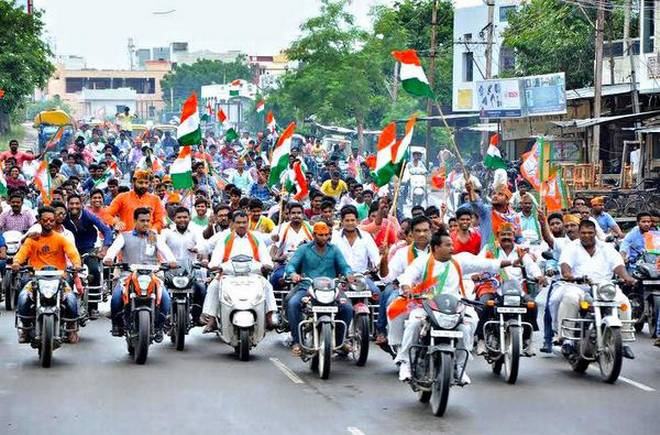h_bike: (391, 225, 474, 421), (564, 212, 636, 391), (12, 208, 79, 373), (212, 205, 273, 370), (287, 221, 348, 380), (105, 207, 163, 366)
h_nohelmet: (429, 225, 459, 267), (409, 215, 439, 252), (576, 214, 602, 256), (308, 219, 339, 250), (132, 204, 156, 236), (35, 202, 57, 236)
numplate: (587, 293, 624, 318), (308, 300, 339, 319), (128, 259, 160, 277), (426, 328, 464, 342), (32, 267, 66, 281)
